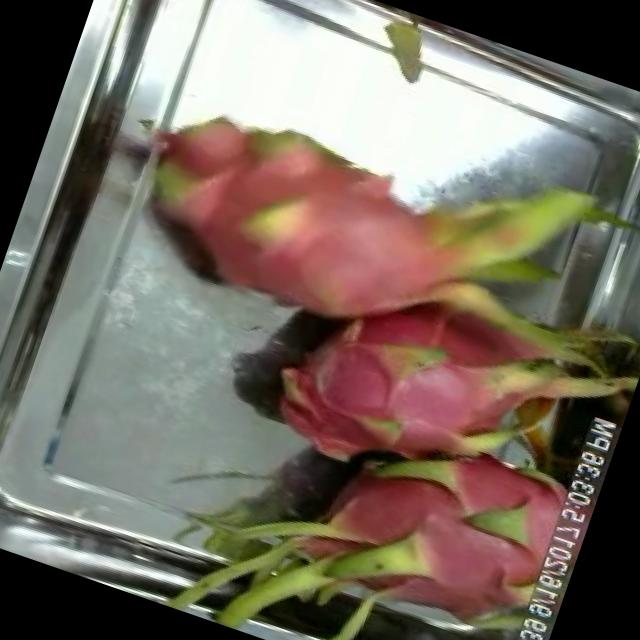Fruit: (238, 284, 451, 498)
